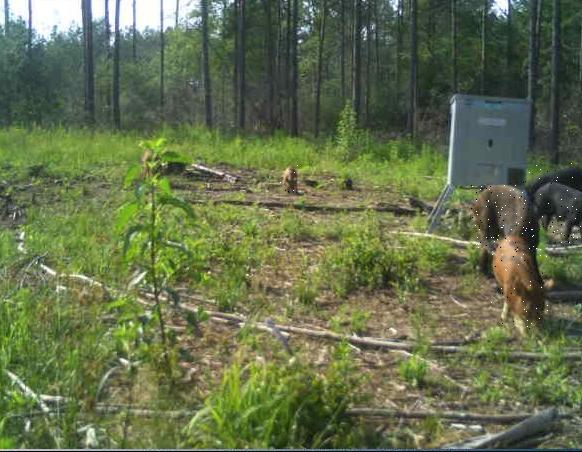Hog: (490, 236, 548, 333), (470, 183, 541, 256), (528, 180, 582, 245), (525, 163, 582, 203), (278, 165, 300, 195)
